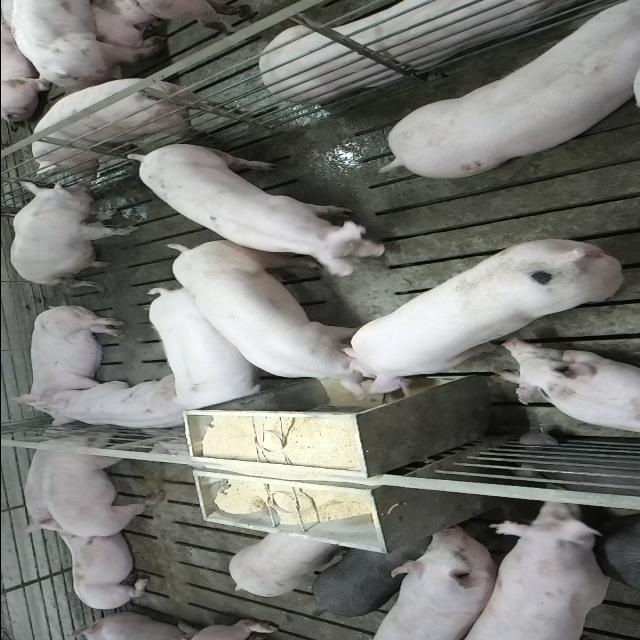Feeding: (337, 236, 625, 400), (156, 233, 384, 399)
Lateral_lying: (9, 302, 128, 428)
Sitting: (8, 179, 138, 287)
Standing: (382, 0, 640, 176), (127, 142, 389, 276), (450, 499, 628, 638), (29, 78, 236, 180), (144, 283, 268, 412), (367, 524, 497, 638), (36, 430, 166, 540), (0, 0, 155, 78), (306, 536, 432, 618), (226, 530, 344, 598), (603, 512, 640, 602)
Sternal_lying: (262, 0, 602, 100), (496, 342, 640, 438), (41, 526, 152, 612), (36, 376, 192, 434), (21, 450, 72, 538)
